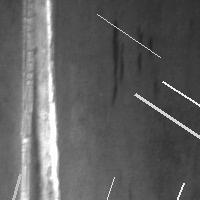scratches: (16, 1, 61, 198), (130, 89, 200, 149), (92, 9, 165, 62), (108, 19, 126, 105), (157, 76, 200, 111), (134, 26, 153, 70), (0, 169, 25, 200), (96, 172, 119, 200), (159, 178, 188, 200)
